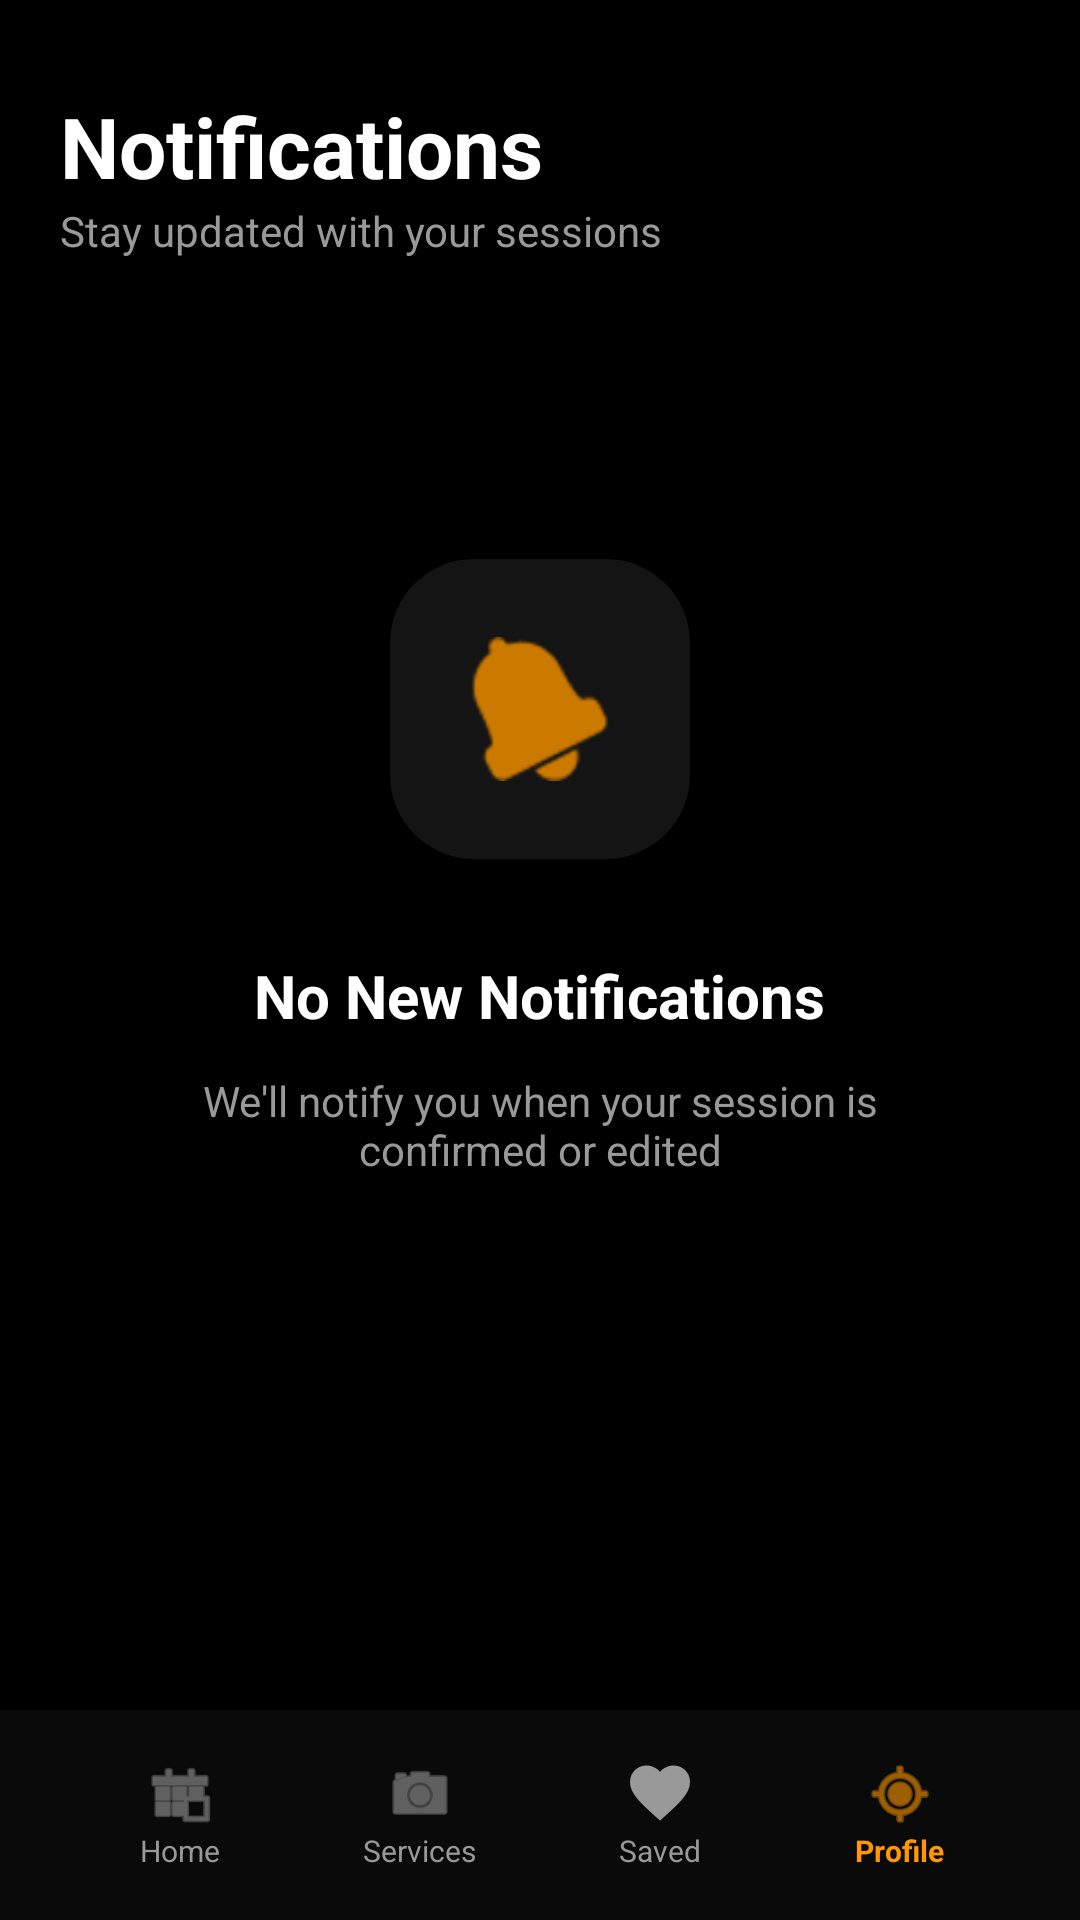

Named icons in this screenshot (1080 x 1920) and their centers, point (x, y):
camera: point (420, 1793)
heart: point (660, 1793)
mylocation: point (900, 1794)
popup reminder: point (540, 709)
today: point (180, 1795)
